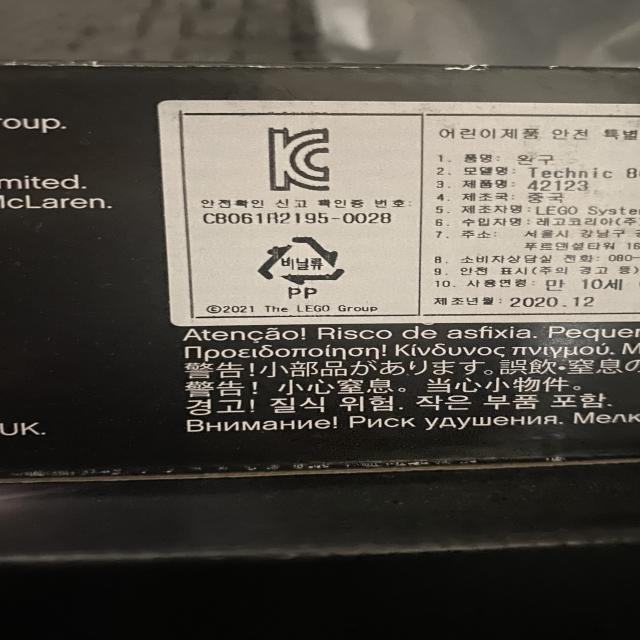Vinyl: (254, 229, 344, 288)
